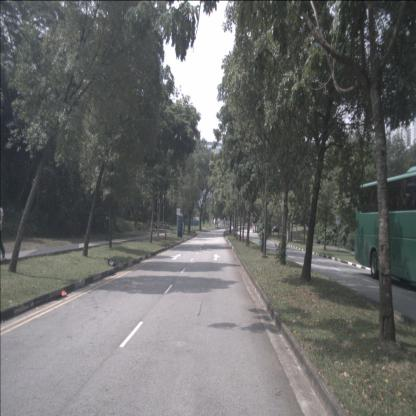human-pedestrian-adult: (0, 200, 6, 260), (104, 212, 110, 242)
vehicle-bus-rigid: (354, 171, 416, 283)
vehicle-car: (156, 221, 170, 230), (272, 226, 282, 233)
